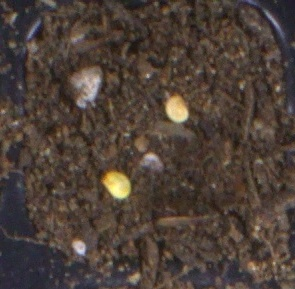chilli seed: (100, 170, 132, 200), (164, 94, 190, 124)
